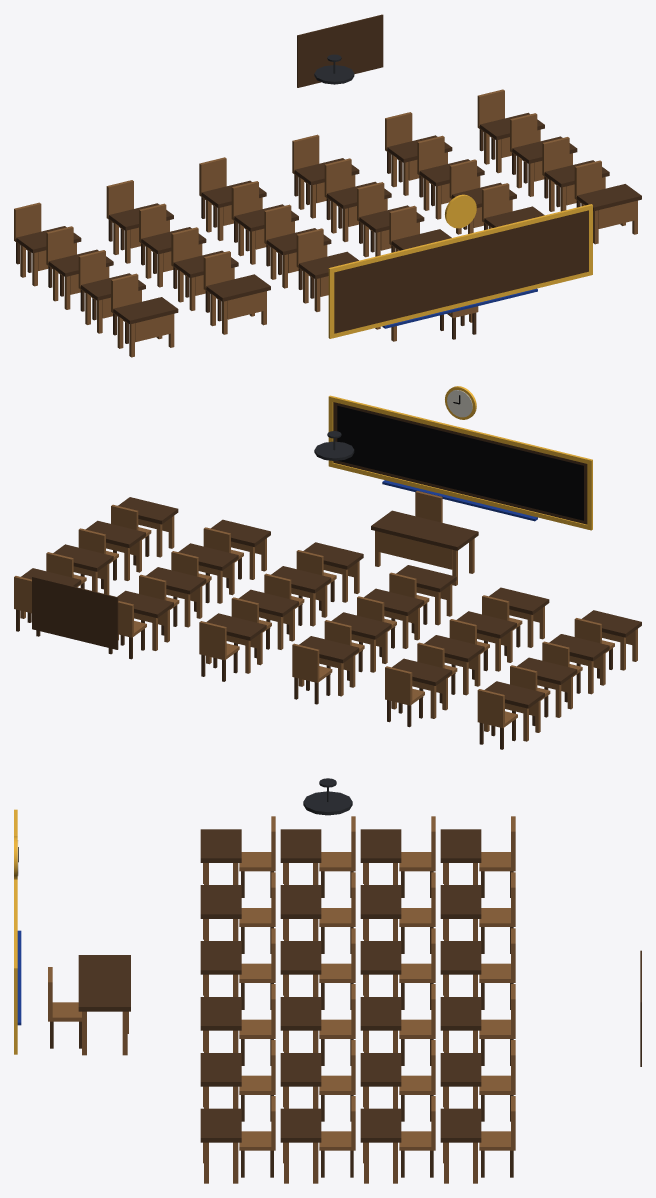
The model's file is SM_Interior_academy_test_room_Props.fbx.
3 views of the same model, one above another, from view 1: azimuth 30°, elevation 25°; view 2: azimuth 150°, elevation 25°; view 3: azimuth 270°, elevation 25° (orthographic). The views are drawn at different scales.
Parts seen in each view (by area): view 1: SM_Interior_academy_test_room_Props; view 2: SM_Interior_academy_test_room_Props; view 3: SM_Interior_academy_test_room_Props.
Boxes of the visible parts, x1,y1,x2,y2 form: SM_Interior_academy_test_room_Props: [14, 14, 641, 357]; SM_Interior_academy_test_room_Props: [14, 386, 641, 749]; SM_Interior_academy_test_room_Props: [14, 778, 641, 1183].
Bounding box in the file's own units: 10.05 × 3.78 × 8.64.
